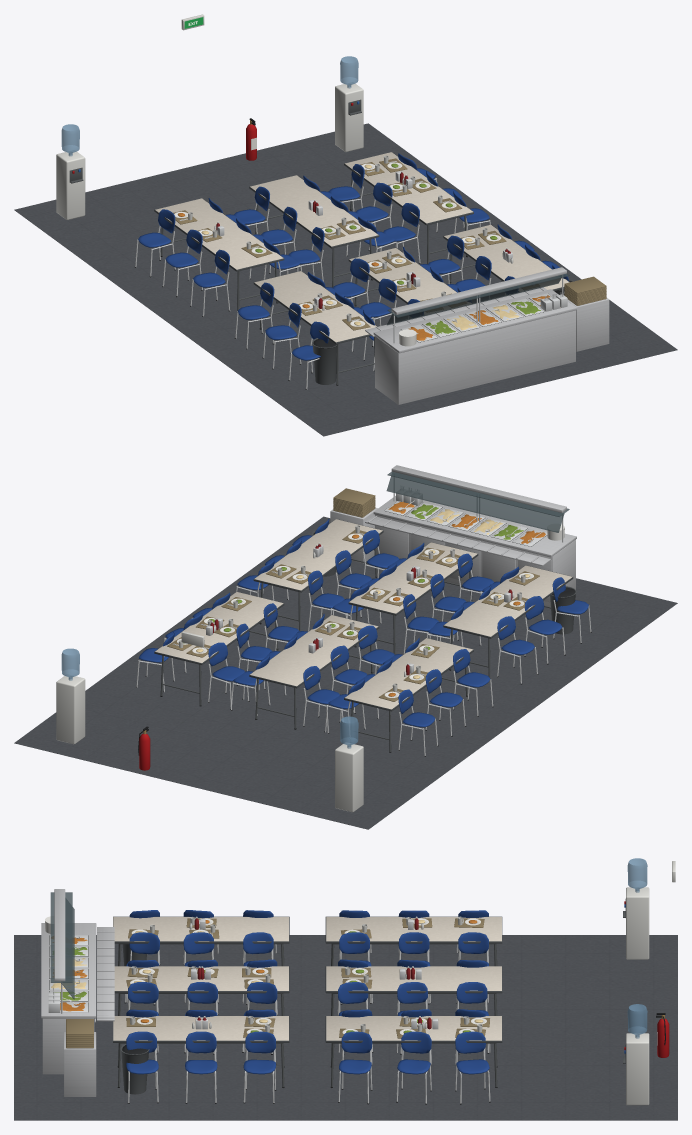
The model's file is mts-fitout.glb.
The picture shows the model from 3 angles, top to bottom: view 1: azimuth 30°, elevation 25°; view 2: azimuth 150°, elevation 25°; view 3: azimuth 270°, elevation 25°; orthographic projection. The views are drawn at different scales.
Parts seen in each view (by area): view 1: MTS_fitout; view 2: MTS_fitout; view 3: MTS_fitout.
Part boxes in pixels (x1,y1,x2,y2): MTS_fitout: (14,14,677,436); MTS_fitout: (14,465,677,829); MTS_fitout: (14,858,677,1120).
Bounding box in the file's own units: 5.98 × 2.43 × 9.04.
Materials: 25 (7 with a texture image).
